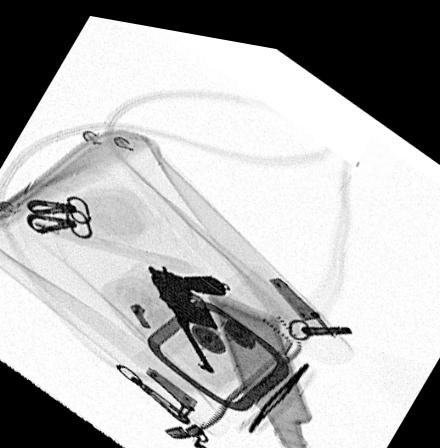Gun: (145, 259, 231, 369)
